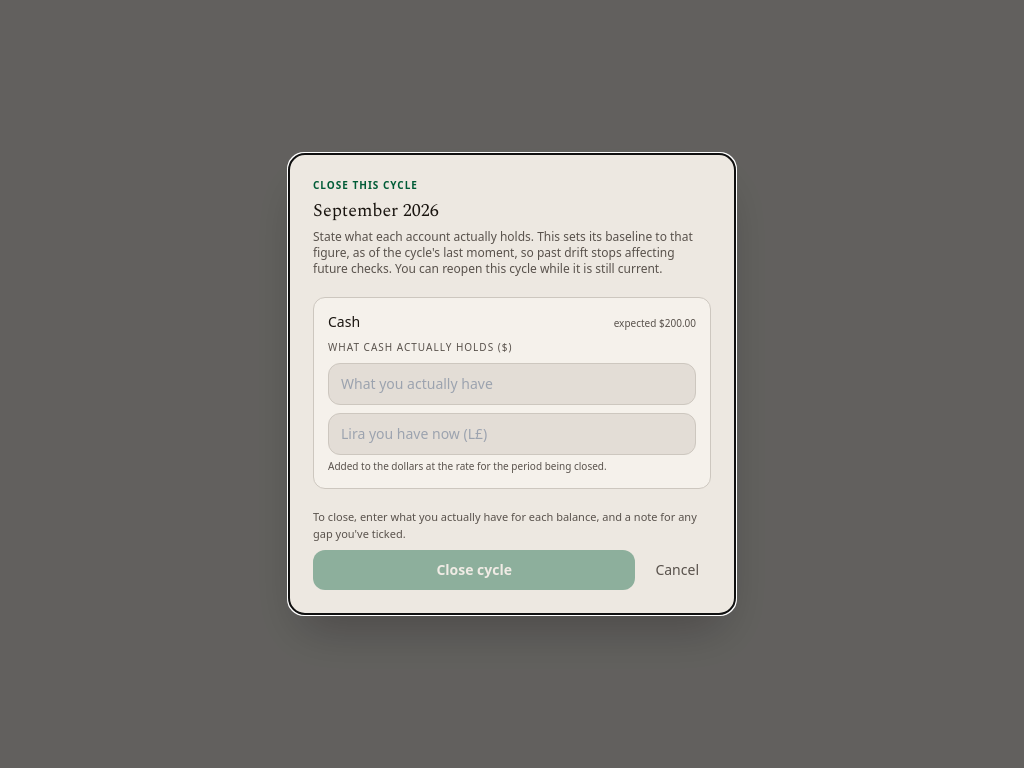
it: R9: why Close cycle is greyed out › once the amount is entered: the button is enabled and the line is gone
Step 1. Type "200" into the field with id "close-amt-tb-cash" → (512, 384), box [328,363,696,405]
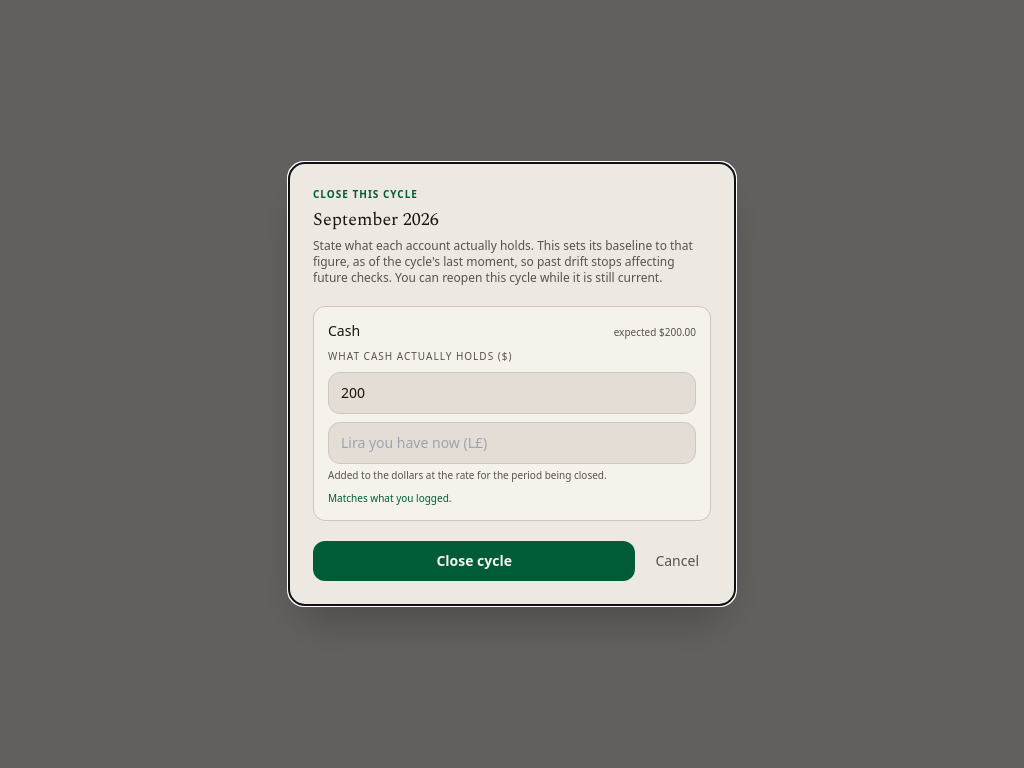
Check: the button "Close cycle" is enabled, box [313,541,635,581]
Check: the text "To close, enter what you actually have for each balance, and a note for any gap you've ticked." is gone
